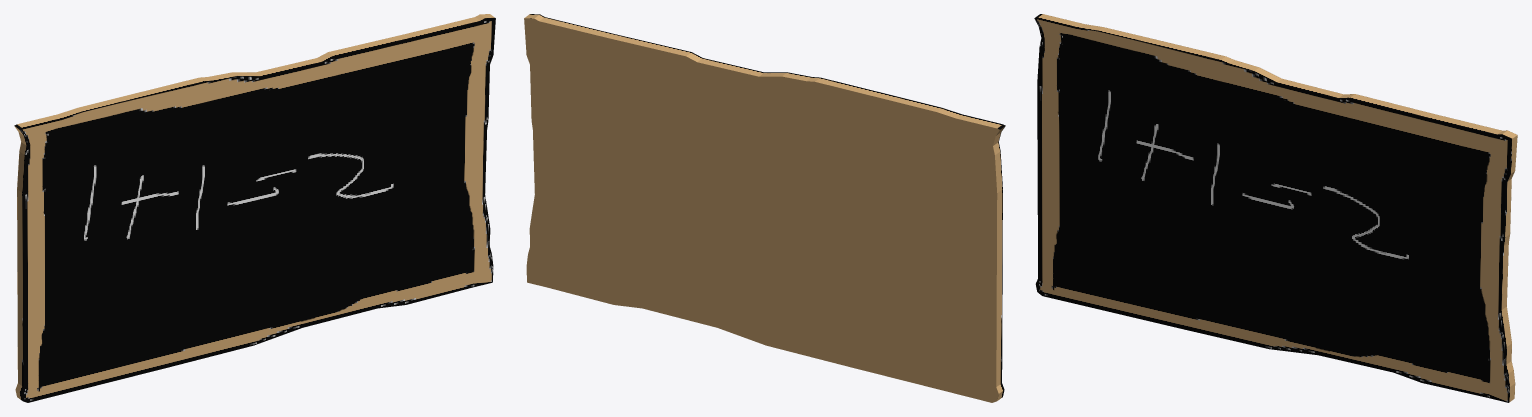
The model's file is blackboard math.fbx.
3 renders of one model, left to right at view 1: azimuth 30°, elevation 25°; view 2: azimuth 150°, elevation 25°; view 3: azimuth 330°, elevation 25°, orthographic.
Parts seen in each view (by area): view 1: Cube; view 2: Cube; view 3: Cube.
Part boxes in pixels (left/top/right/bottom): Cube: left=14, top=14, right=495, bottom=402; Cube: left=524, top=14, right=1005, bottom=402; Cube: left=1034, top=14, right=1517, bottom=402.
Bounding box in the file's own units: 769 × 429 × 16.44.
1 material, 1 textured.
